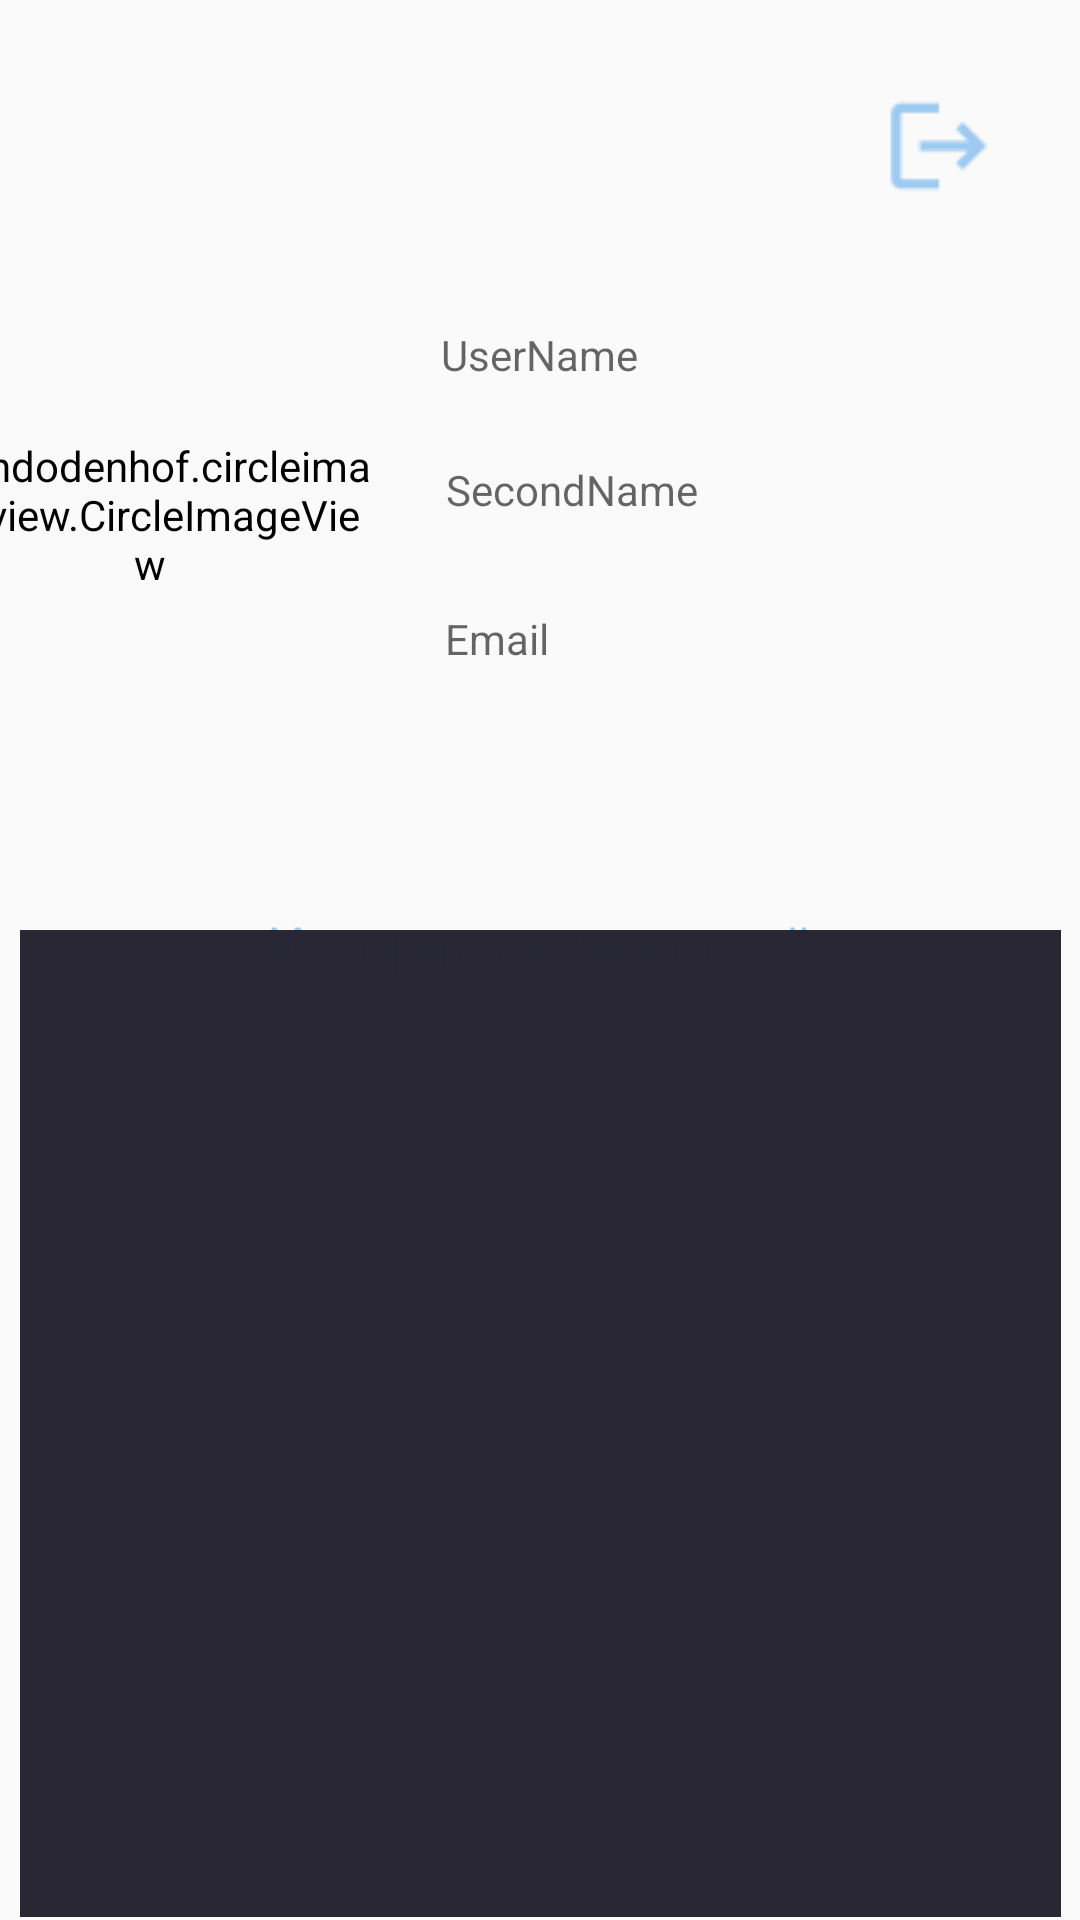

Where icons sit on this 1080 x 1920 app screen, as rect(x1, y1, x2, y2):
sign: rect(890, 103, 986, 189)
